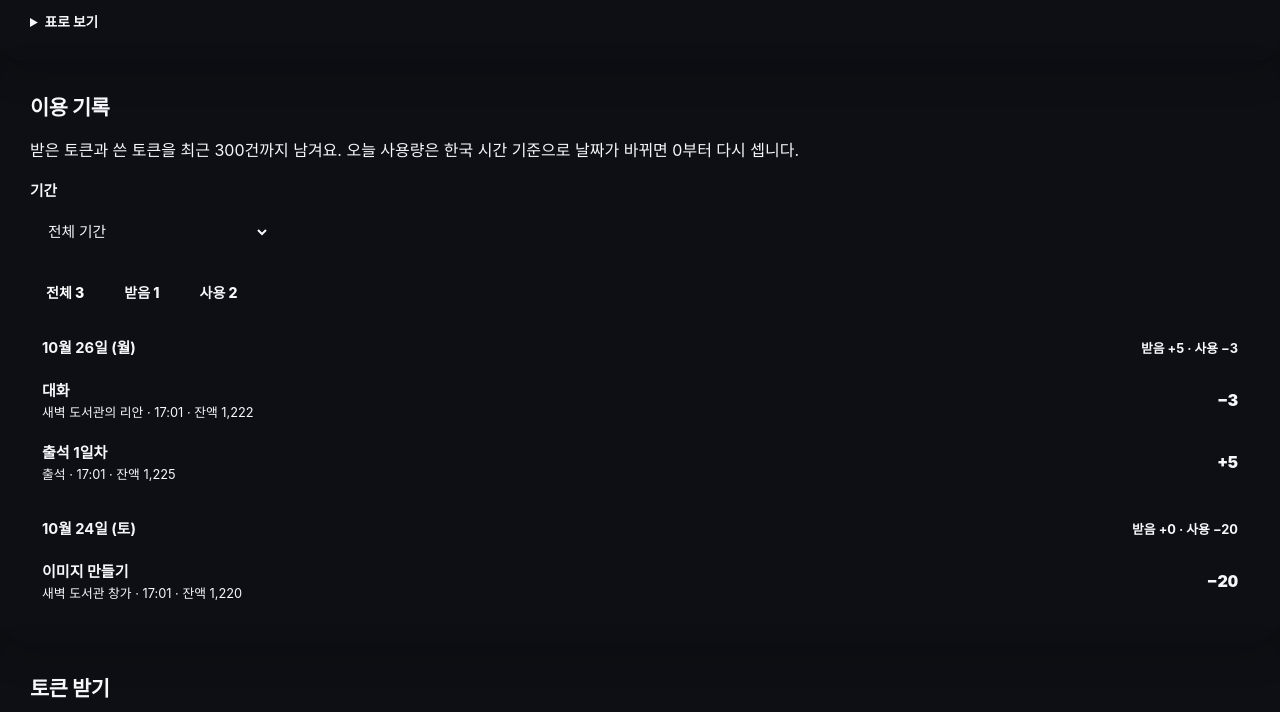
Test: 토큰 이용 내역 › 최근 7일 그래프와 날짜별 이용 기록을 보여 주고 받음·사용으로 거른다
(page scrolled)
Expected: the list item "대화 새벽 도서관의 리안 · 17:01 · 잔액 1,222 −3" is shown, top-left (30, 369), bottom-right (1250, 431)
Expected: the list item "출석 1일차 출석 · 17:01 · 잔액 1,225 +5" is shown, top-left (30, 431), bottom-right (1250, 493)
What coordinates should you click on to do the following:
click the button "사용 2"
I would click on:
 (218, 292)
Its box is top-left (184, 272), bottom-right (254, 312).
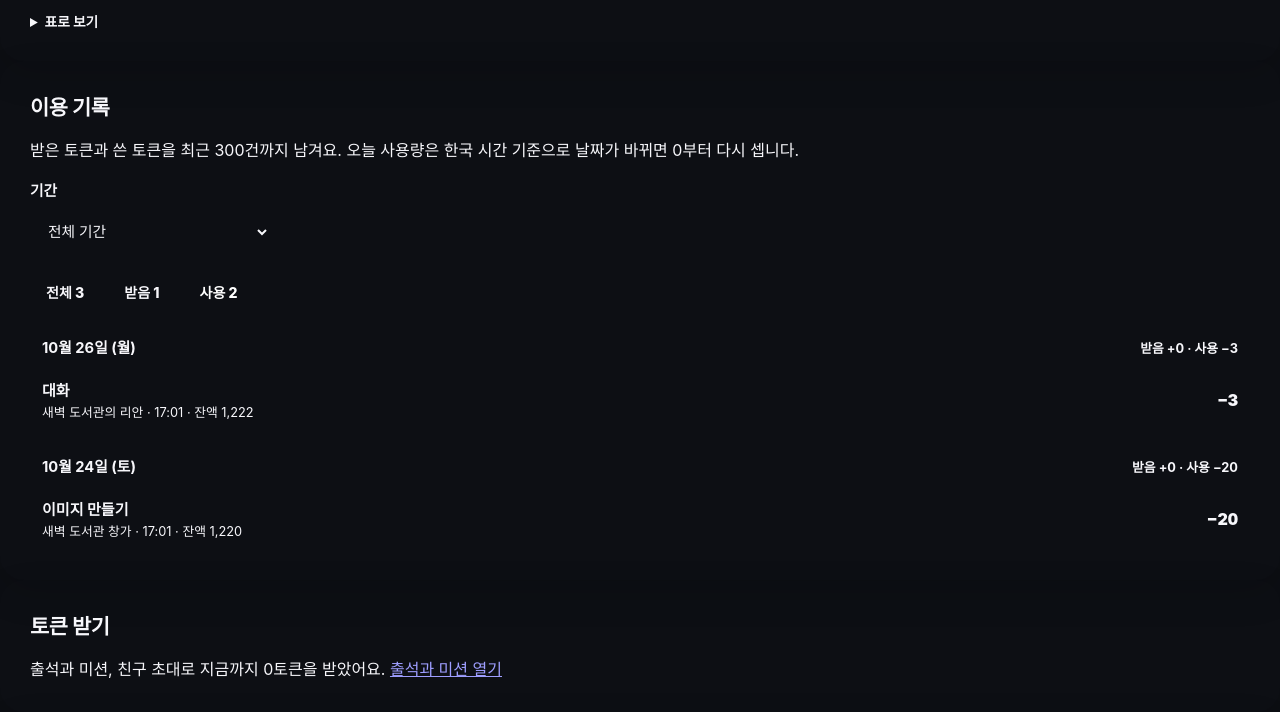
What coordinates should you click on to do the following:
click the button "받음 1"
I would click on:
 (142, 292)
Its box is top-left (108, 272), bottom-right (176, 312).
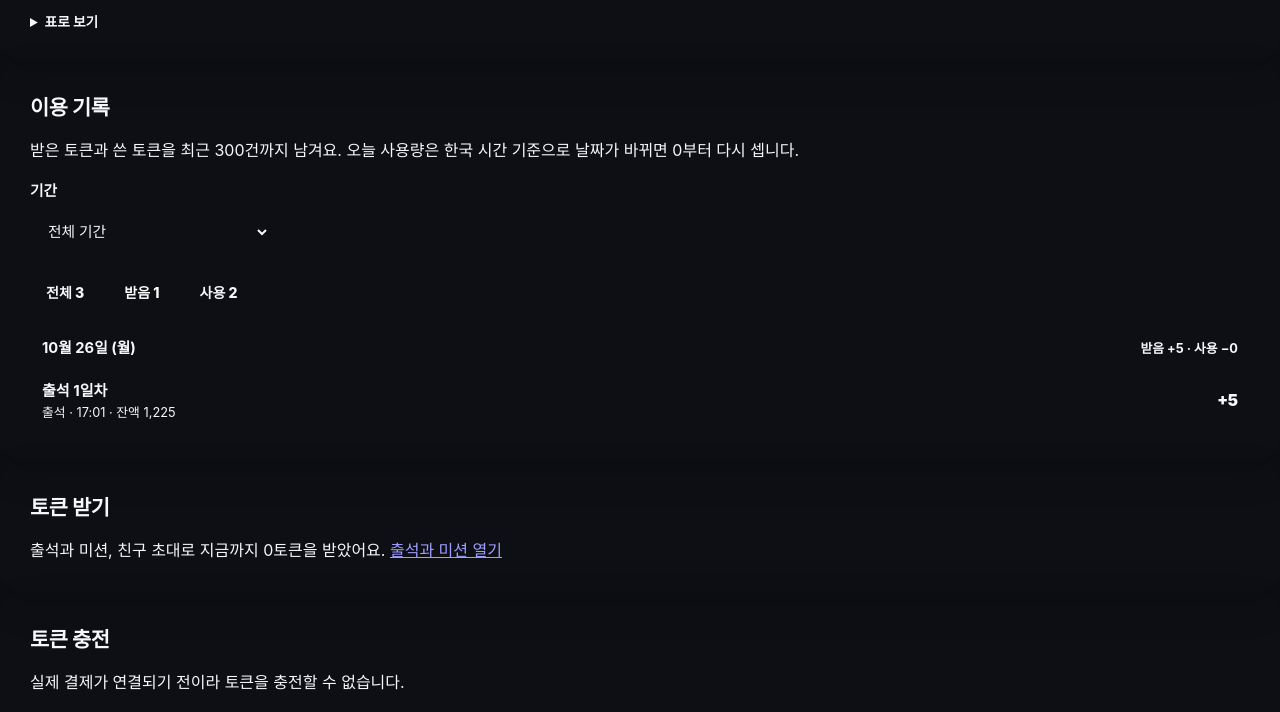
Now the list item shows "출석 1일차", box top-left (42, 381), bottom-right (107, 400)
